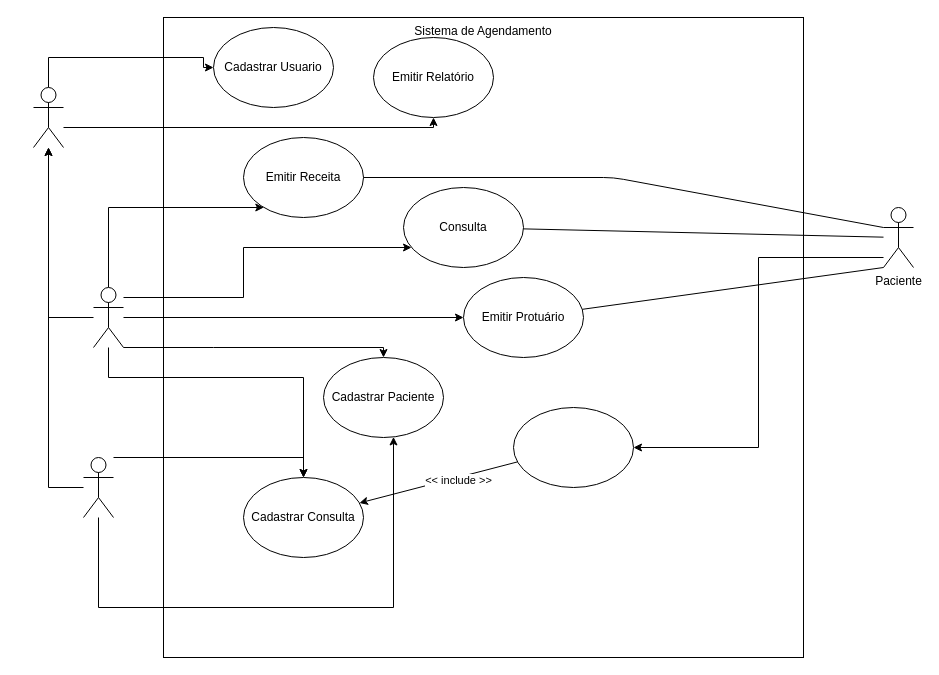
Image size: 939x675. Some labels were removed from this diagram. The box of each missing label's shape, as (x1, y1, x2, y2) in pixels:
Medico: (92, 286, 124, 348)
Proprietário: (32, 86, 64, 148)
Recepcionista: (82, 456, 114, 518)
Solicita consulta: (512, 406, 634, 488)
